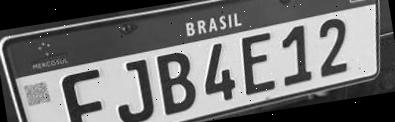placa_mercosul: (0, 0, 380, 122)
